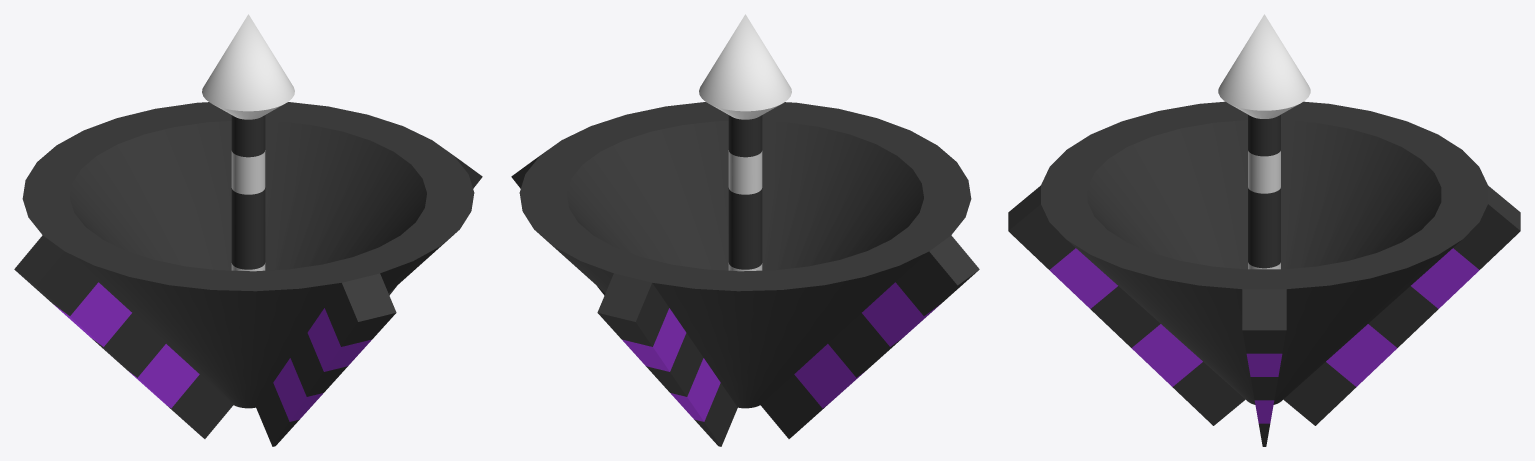
The model's file is Satellite.fbx.
3 renders of one model, left to right at view 1: azimuth 30°, elevation 25°; view 2: azimuth 150°, elevation 25°; view 3: azimuth 270°, elevation 25°, orthographic.
Parts seen in each view (by area): view 1: Satellite; view 2: Satellite; view 3: Satellite.
Part boxes in pixels (x1,y1,x2,y2): Satellite: (14, 14, 482, 446); Satellite: (511, 14, 979, 446); Satellite: (1008, 14, 1520, 446).
Size of the model in its own units: 228 by 202 by 228.
